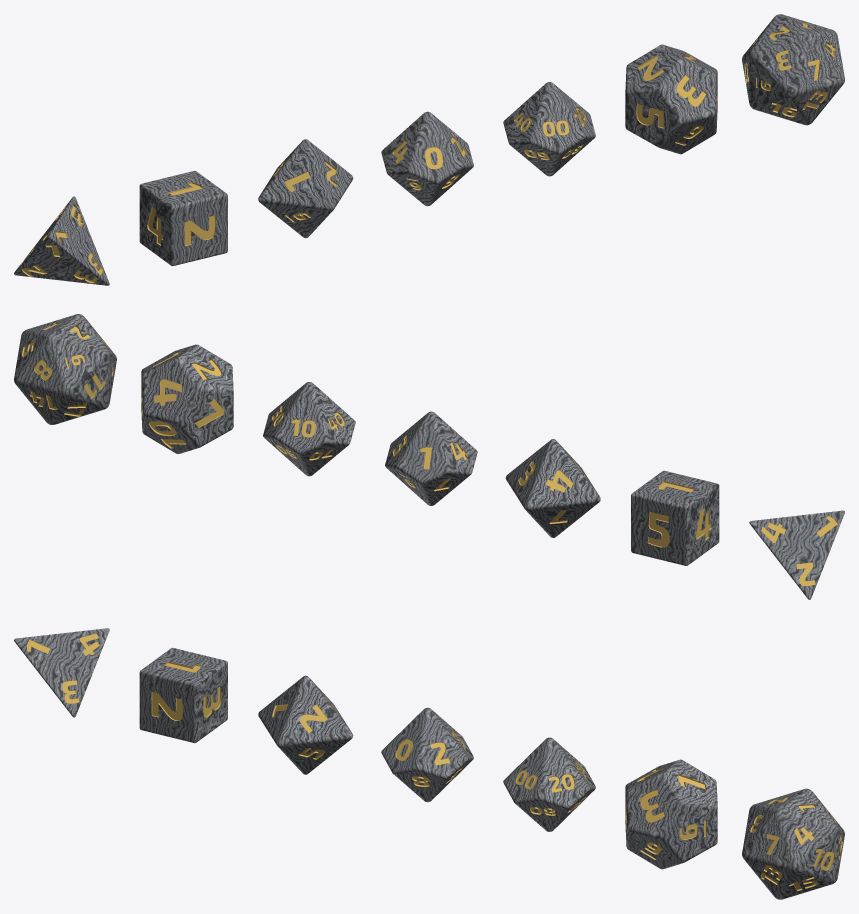
File: damascus.glb
The picture shows the model from 3 angles, top to bottom: view 1: azimuth 30°, elevation 25°; view 2: azimuth 150°, elevation 25°; view 3: azimuth 330°, elevation 25°; orthographic projection.
Visible parts, largest first — view 1: d20, d12, d6, d100, d10, d8, d4; view 2: d20, d12, d6, d100, d10, d8, d4; view 3: d20, d12, d6, d8, d10, d100, d4.
Part boxes in pixels (left/top/right/bottom): d20: left=742, top=14, right=844, bottom=125; d12: left=625, top=44, right=717, bottom=154; d6: left=139, top=171, right=227, bottom=266; d100: left=503, top=82, right=595, bottom=176; d10: left=381, top=111, right=473, bottom=206; d8: left=258, top=139, right=353, bottom=238; d4: left=14, top=196, right=109, bottom=285; d20: left=14, top=314, right=116, bottom=424; d12: left=141, top=344, right=233, bottom=453; d6: left=631, top=470, right=719, bottom=565; d100: left=263, top=382, right=355, bottom=476; d10: left=385, top=411, right=477, bottom=505; d8: left=505, top=439, right=600, bottom=537; d4: left=749, top=510, right=844, bottom=599; d20: left=742, top=788, right=844, bottom=899; d12: left=625, top=759, right=717, bottom=869; d6: left=139, top=647, right=227, bottom=742; d8: left=258, top=675, right=353, bottom=774; d10: left=381, top=707, right=473, bottom=802; d100: left=503, top=737, right=595, bottom=831; d4: left=14, top=628, right=109, bottom=717.
Bounding box in the file's own units: 21.14 × 2.47 × 2.47.
Materials: 14 (7 with a texture image).
